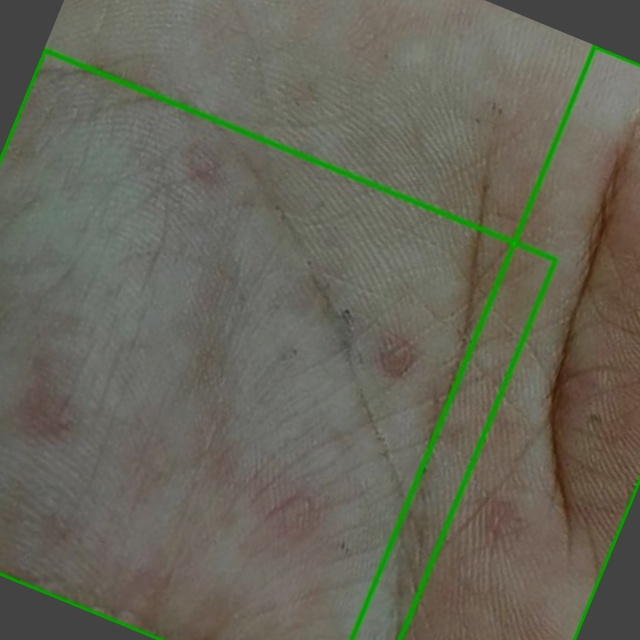Contact Dermatitis: (0, 50, 555, 639), (351, 45, 639, 639)
